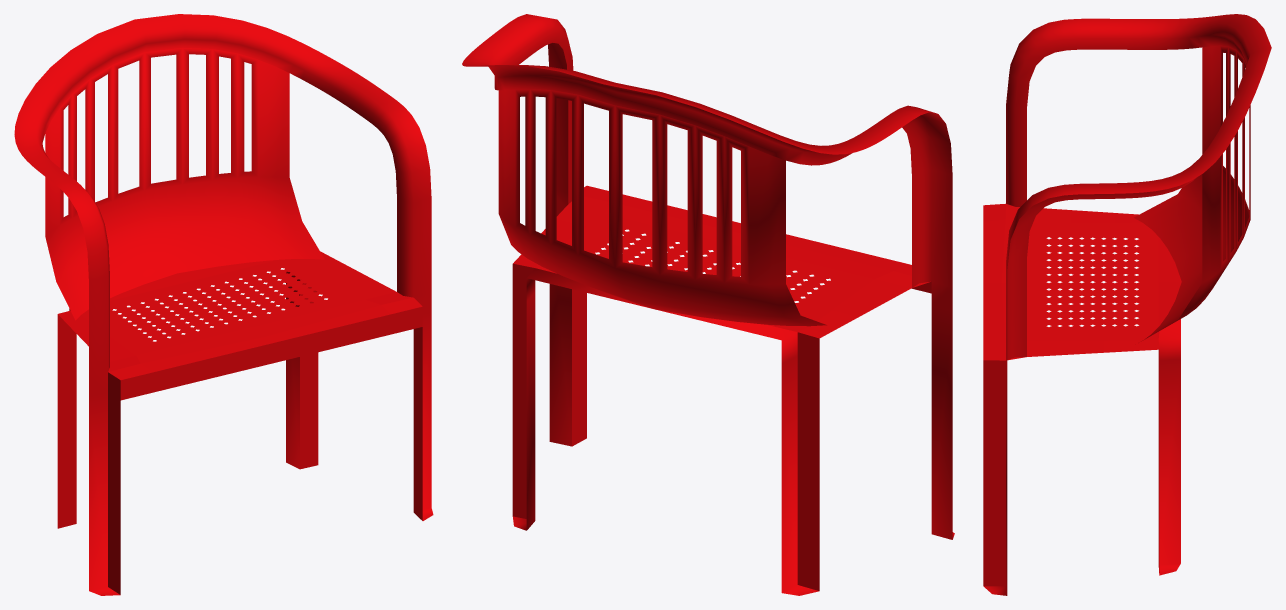
File: CadeiraBar.fbx
3 views of the same model, side by side, from view 1: azimuth 30°, elevation 25°; view 2: azimuth 150°, elevation 25°; view 3: azimuth 270°, elevation 25° (orthographic). The views are drawn at different scales.
Visible parts, largest first — view 1: NurbsPath; view 2: NurbsPath; view 3: NurbsPath.
Part boxes in pixels (box(x1,y1,x2,y2)): NurbsPath: box(14, 14, 433, 595); NurbsPath: box(462, 14, 954, 595); NurbsPath: box(983, 14, 1271, 595).
Size of the model in its own units: 521 by 638 by 362.
